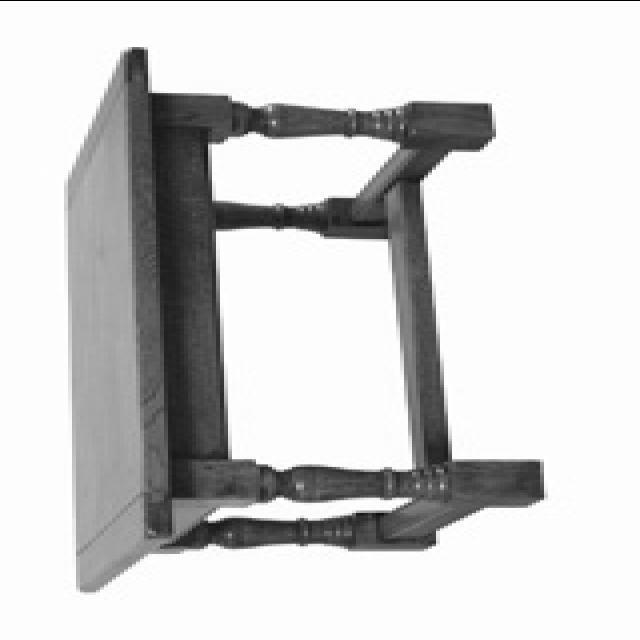table: (66, 47, 546, 595)
